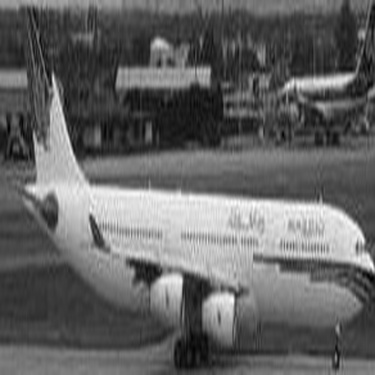airplane: (4, 6, 370, 372), (263, 7, 369, 144)
